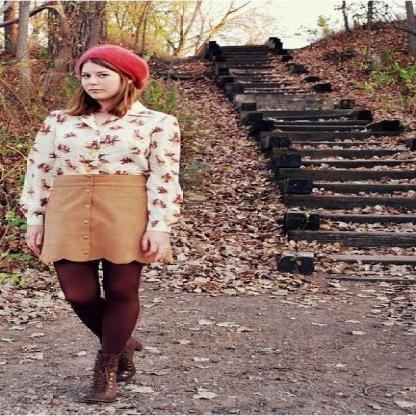hat: (87, 42, 150, 90)
shirt: (19, 101, 184, 232)
shoe: (76, 336, 141, 406)
skirt: (37, 165, 157, 265)
